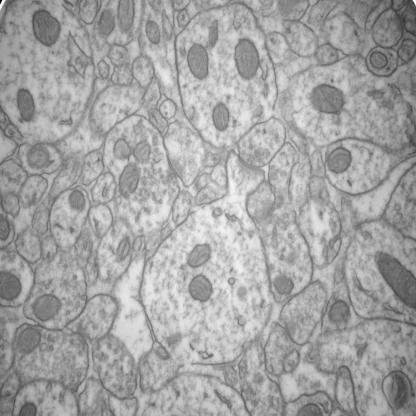mitochondria: (374, 251, 416, 308), (30, 10, 63, 48), (233, 37, 261, 81), (309, 82, 344, 115), (118, 162, 143, 202), (186, 42, 210, 80), (32, 294, 62, 323), (186, 242, 214, 270), (188, 273, 214, 303), (326, 146, 352, 174), (116, 0, 136, 36), (329, 300, 352, 330), (0, 271, 22, 302), (17, 88, 35, 123), (16, 328, 41, 352), (210, 102, 230, 132), (97, 8, 116, 38), (132, 138, 152, 166), (113, 235, 132, 263), (272, 274, 294, 297), (112, 138, 132, 162), (68, 188, 86, 214), (206, 20, 220, 48)
